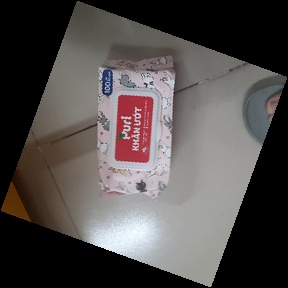Puri hong: (92, 53, 176, 202)
